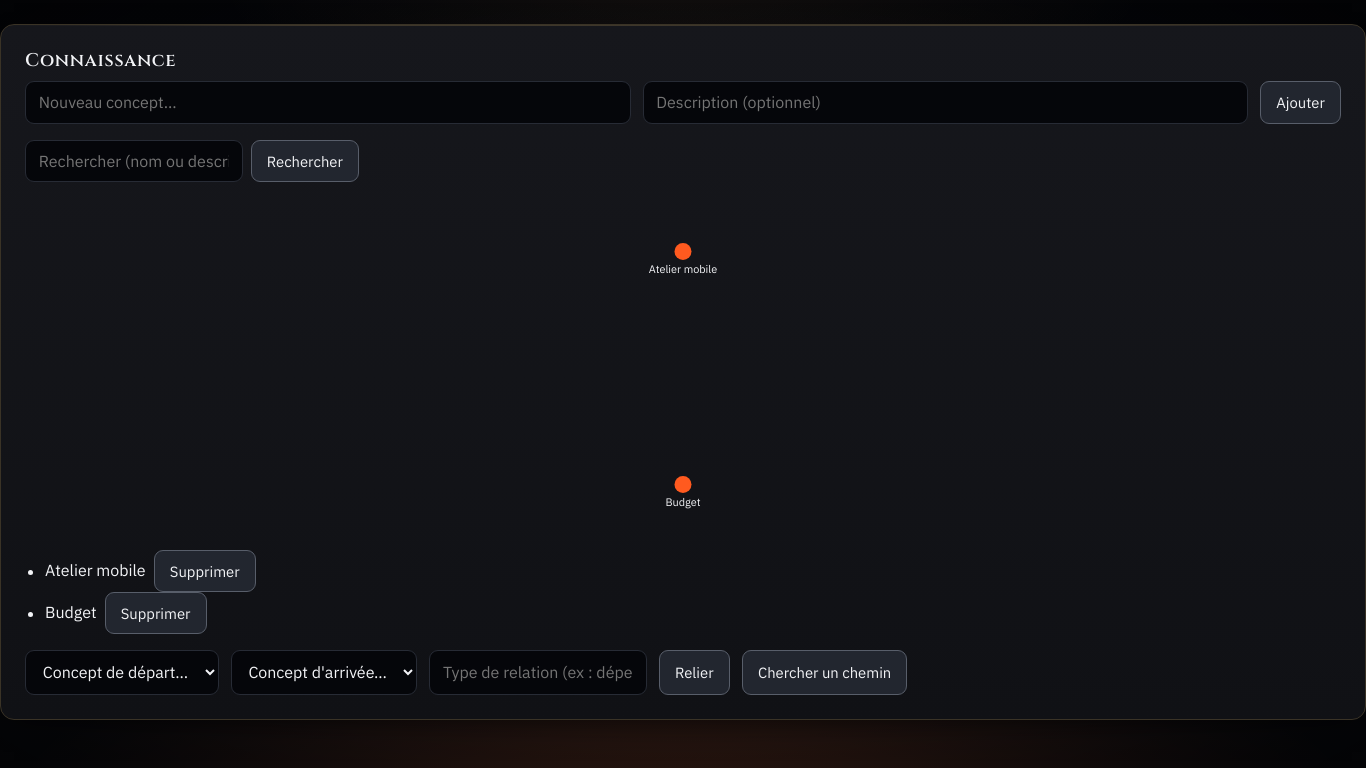
Test: KnowledgeSection — recherche, isolés, suppressions › dit qu'aucun lien n'existe plutôt que d'en inventer un
Select "Atelier mobile" in the dropdown named "Concept de départ". click: point(122, 672)
box: x1=25 y1=650 x2=219 y2=695
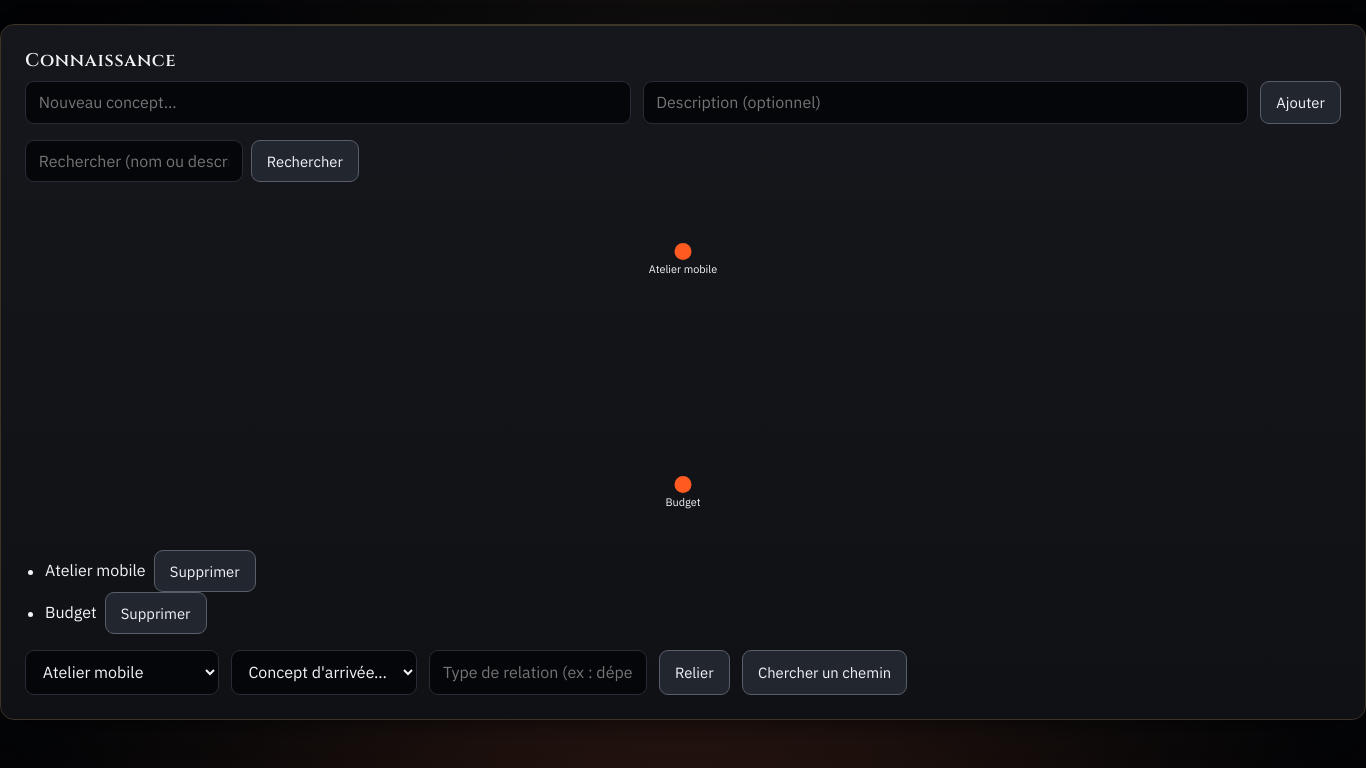
Select "Budget" in the dropdown named "Concept d'arrivée". click: point(324, 672)
box: x1=231 y1=650 x2=417 y2=695
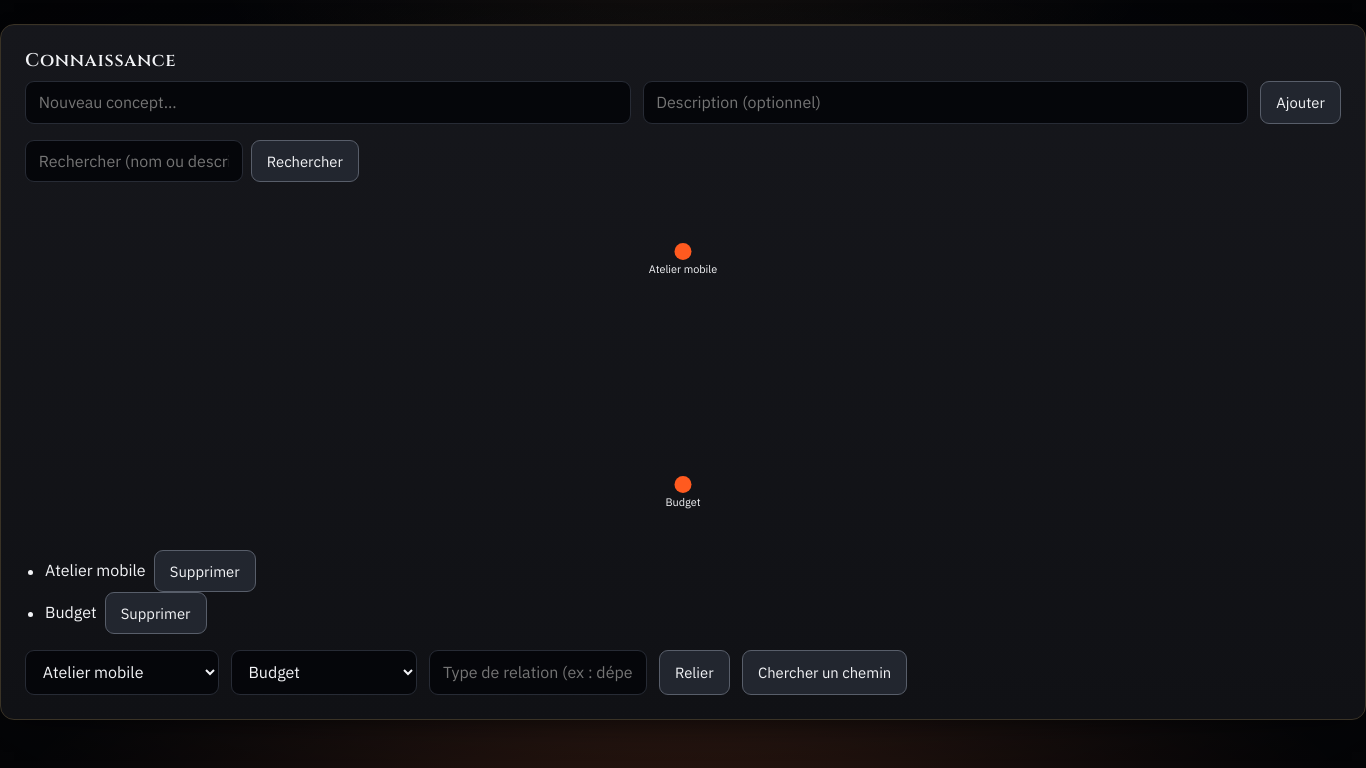
Click the button "Chercher un chemin". click: point(825, 672)
box: x1=742 y1=650 x2=907 y2=695
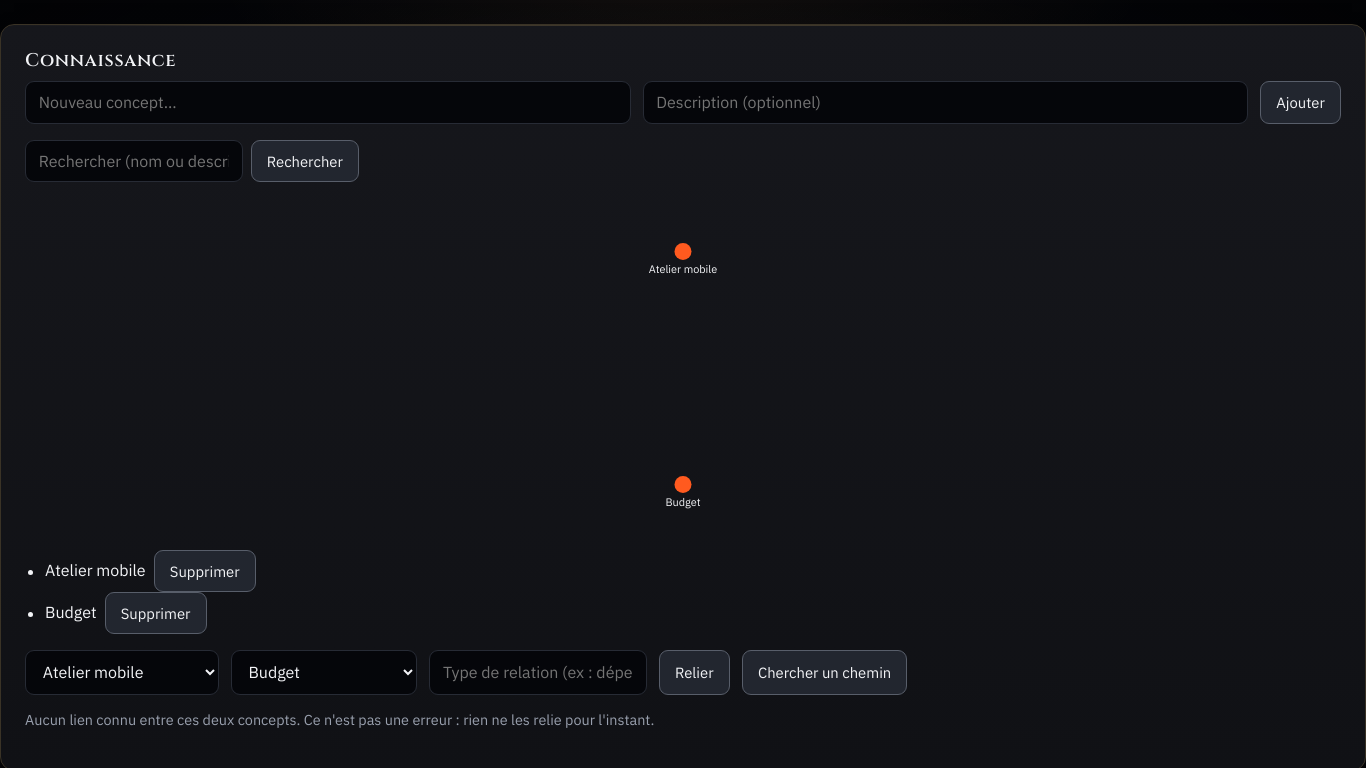
Expected: the text "Aucun lien connu entre ces deux concepts" is shown, x1=25 y1=710 x2=654 y2=729
